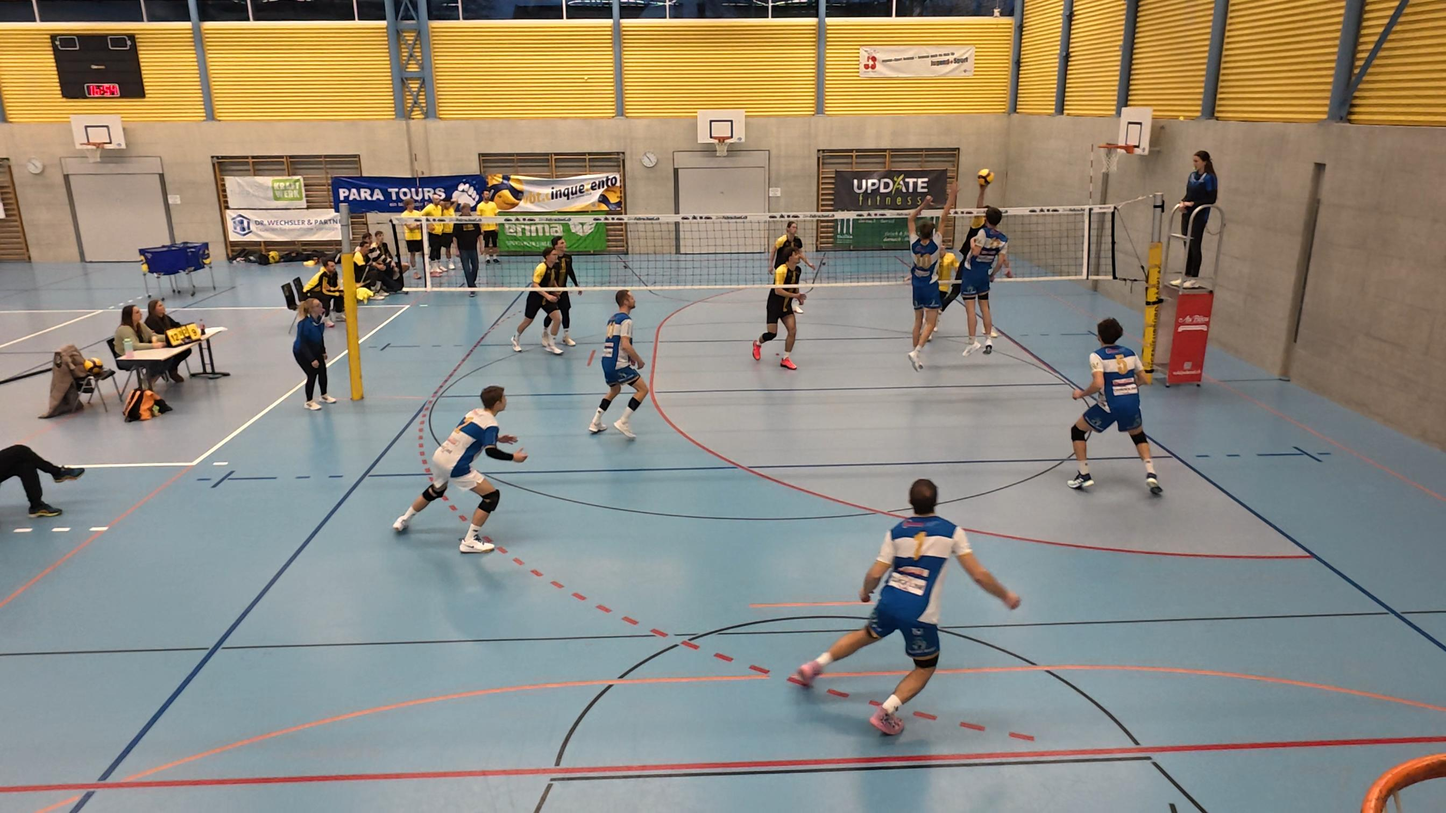attacco: (957, 168, 993, 251)
